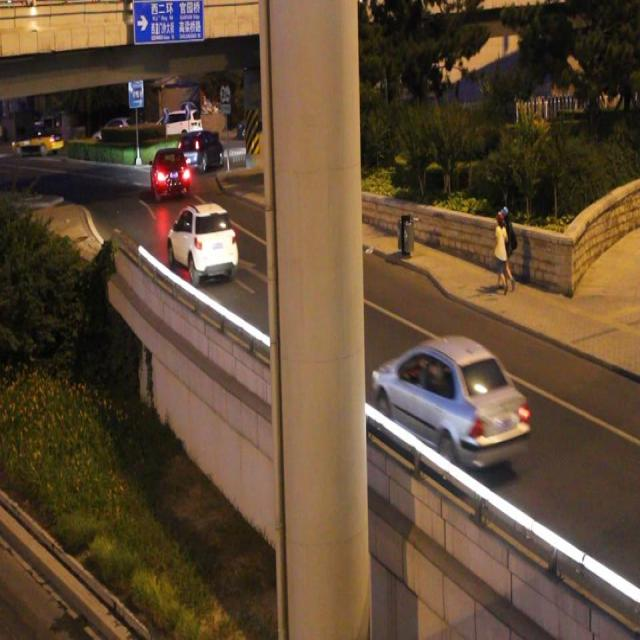car: (373, 333, 530, 468), (168, 202, 238, 280), (150, 148, 190, 198)
